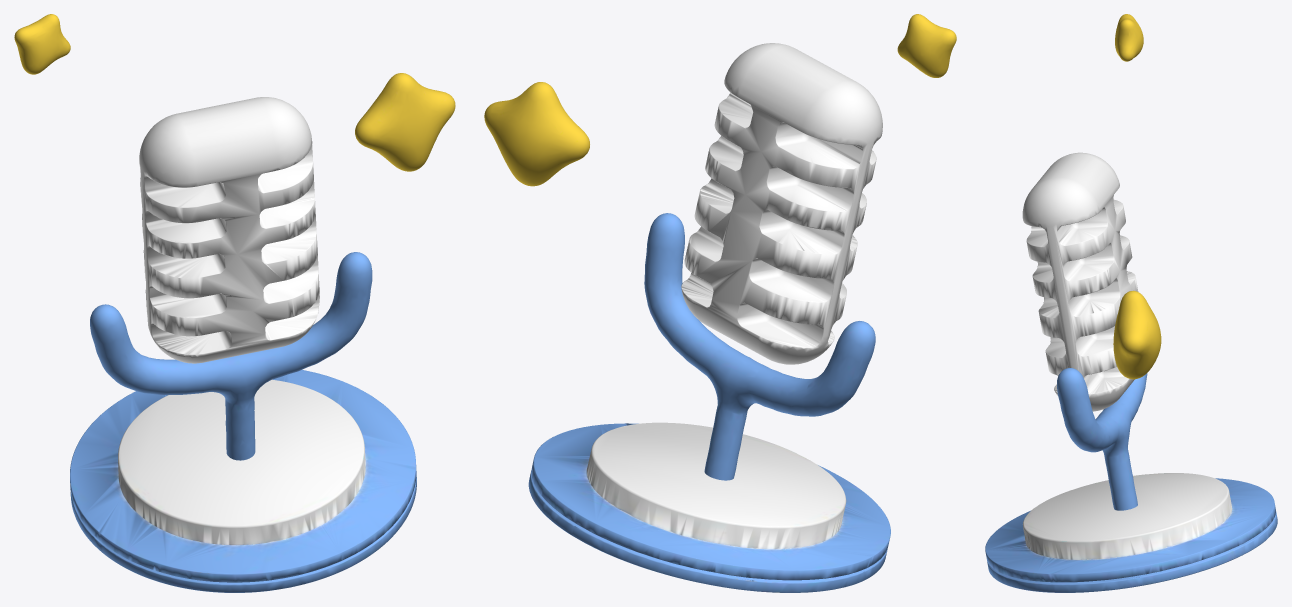
File: oc-mic.glb
3 views of the same model, side by side, from view 1: azimuth 30°, elevation 25°; view 2: azimuth 150°, elevation 25°; view 3: azimuth 270°, elevation 25° (orthographic). The views are drawn at different scales.
Visible parts, largest first — view 1: 26_09_28_08_30_15_527_0; view 2: 26_09_28_08_30_15_527_0; view 3: 26_09_28_08_30_15_527_0.
Part boxes in pixels (x1=…): 26_09_28_08_30_15_527_0: x1=14, y1=14, x2=455, y2=592; 26_09_28_08_30_15_527_0: x1=484, y1=14, x2=956, y2=592; 26_09_28_08_30_15_527_0: x1=985, y1=14, x2=1277, y2=592.
Size of the model in its own units: 0.8286 by 1 by 0.5614.
Materials: 5 (5 with a texture image).
